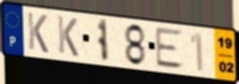1: (96, 17, 111, 64), (190, 31, 204, 73)
8: (122, 21, 147, 68)
E: (154, 27, 185, 71)
K: (56, 14, 80, 59), (26, 11, 50, 56)
